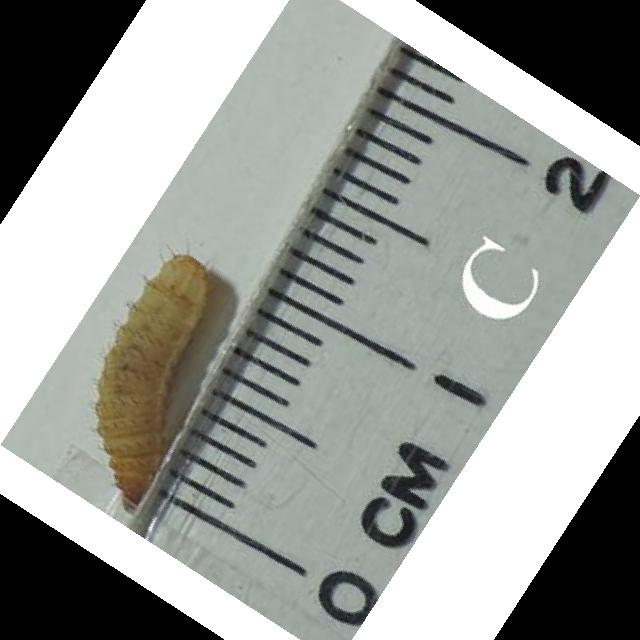Maggot: (98, 255, 214, 505)
